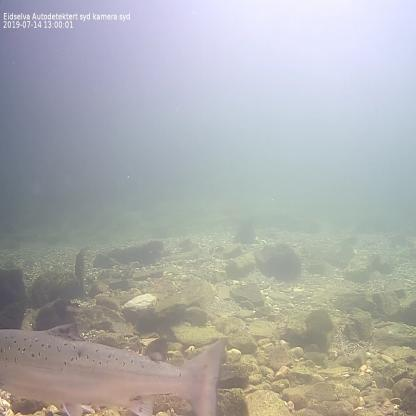salmon: (0, 320, 229, 416)
